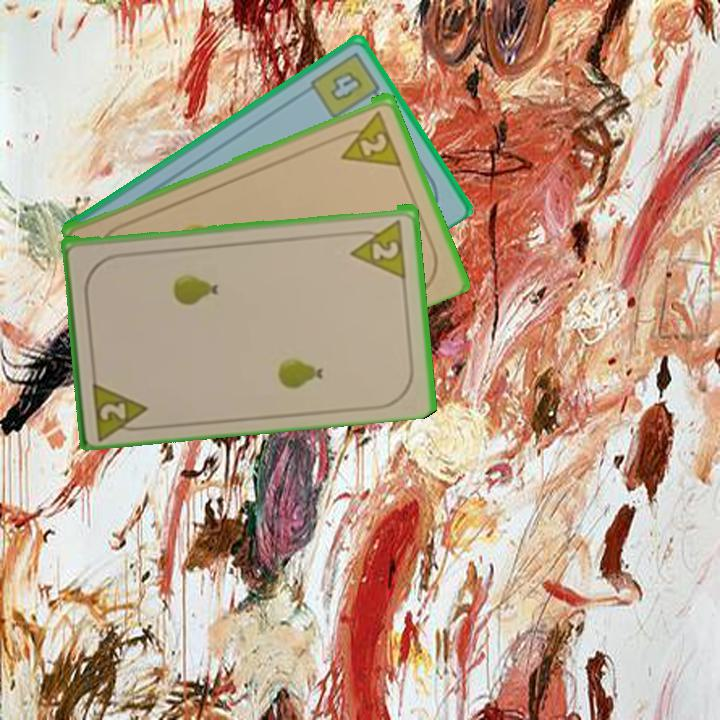2p: (332, 107, 404, 169), (346, 215, 409, 279), (96, 398, 129, 423)
4b: (306, 48, 386, 122)
